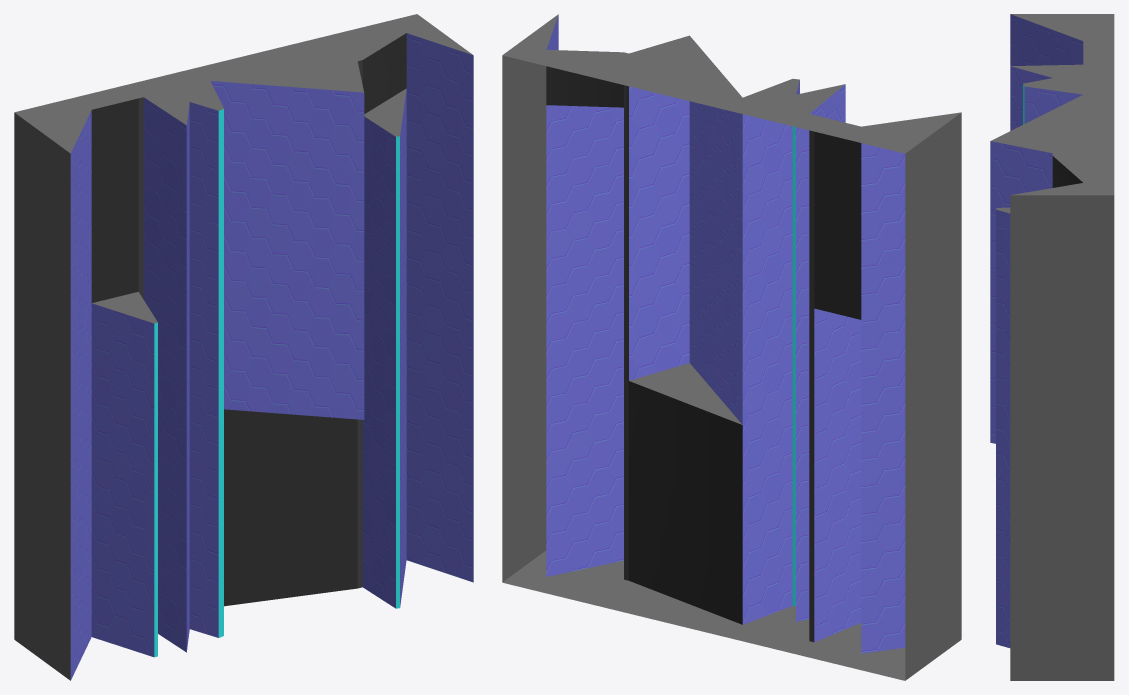
File: Wall_4x5x1_004_L0_Geometry.fbx
The picture shows the model from 3 angles, left to right: view 1: azimuth 30°, elevation 25°; view 2: azimuth 150°, elevation 25°; view 3: azimuth 270°, elevation 25°; orthographic projection. The views are drawn at different scales.
Visible parts, largest first — view 1: Wall_4x5x1_004_L0_Geometry; view 2: Wall_4x5x1_004_L0_Geometry; view 3: Wall_4x5x1_004_L0_Geometry.
Part boxes in pixels (box(x1,y1,x2,y2)): Wall_4x5x1_004_L0_Geometry: box(14, 14, 473, 680); Wall_4x5x1_004_L0_Geometry: box(502, 14, 961, 680); Wall_4x5x1_004_L0_Geometry: box(990, 14, 1114, 680).
Size of the model in its own units: 4 by 5 by 1.16.
